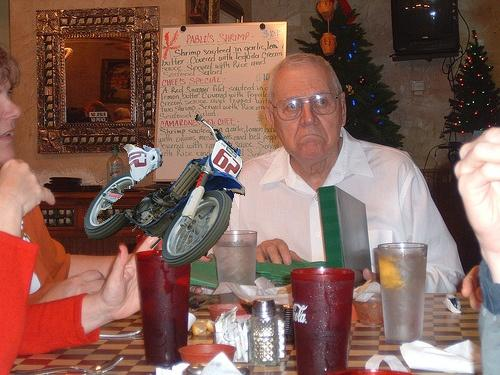tampered: (85, 115, 245, 267)
